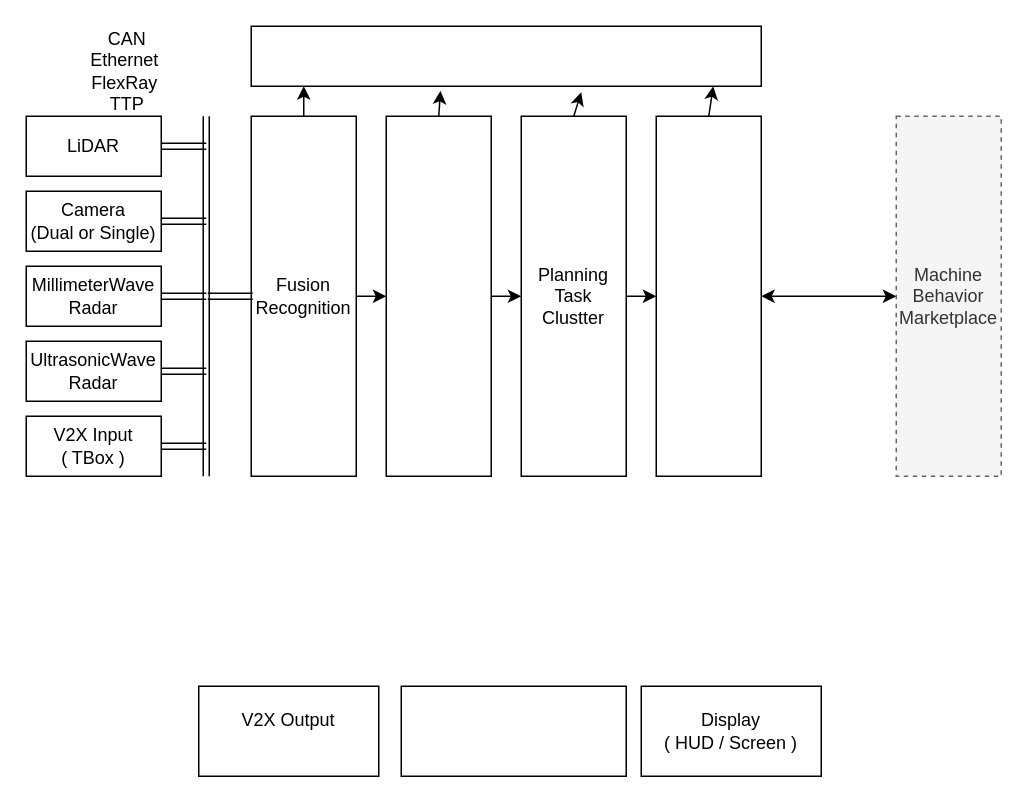
This 1028x803 diagram has some shape labels left out. Each missing label, with the centre of its shape:
Data Collector: (505,55)
High Density Map: (438,295)
Planning Resolution: (708,295)
Wire Control Steer / Brake / Suspension / Throttle / Clutch: (513,730)
